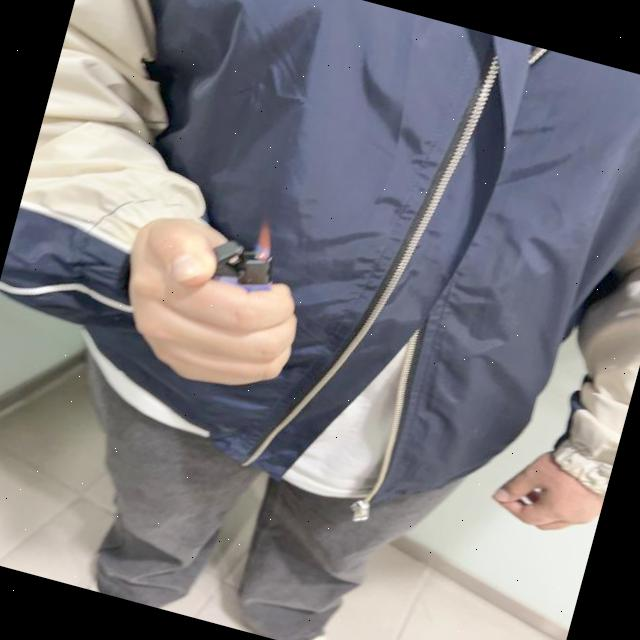fire: (251, 217, 277, 262)
